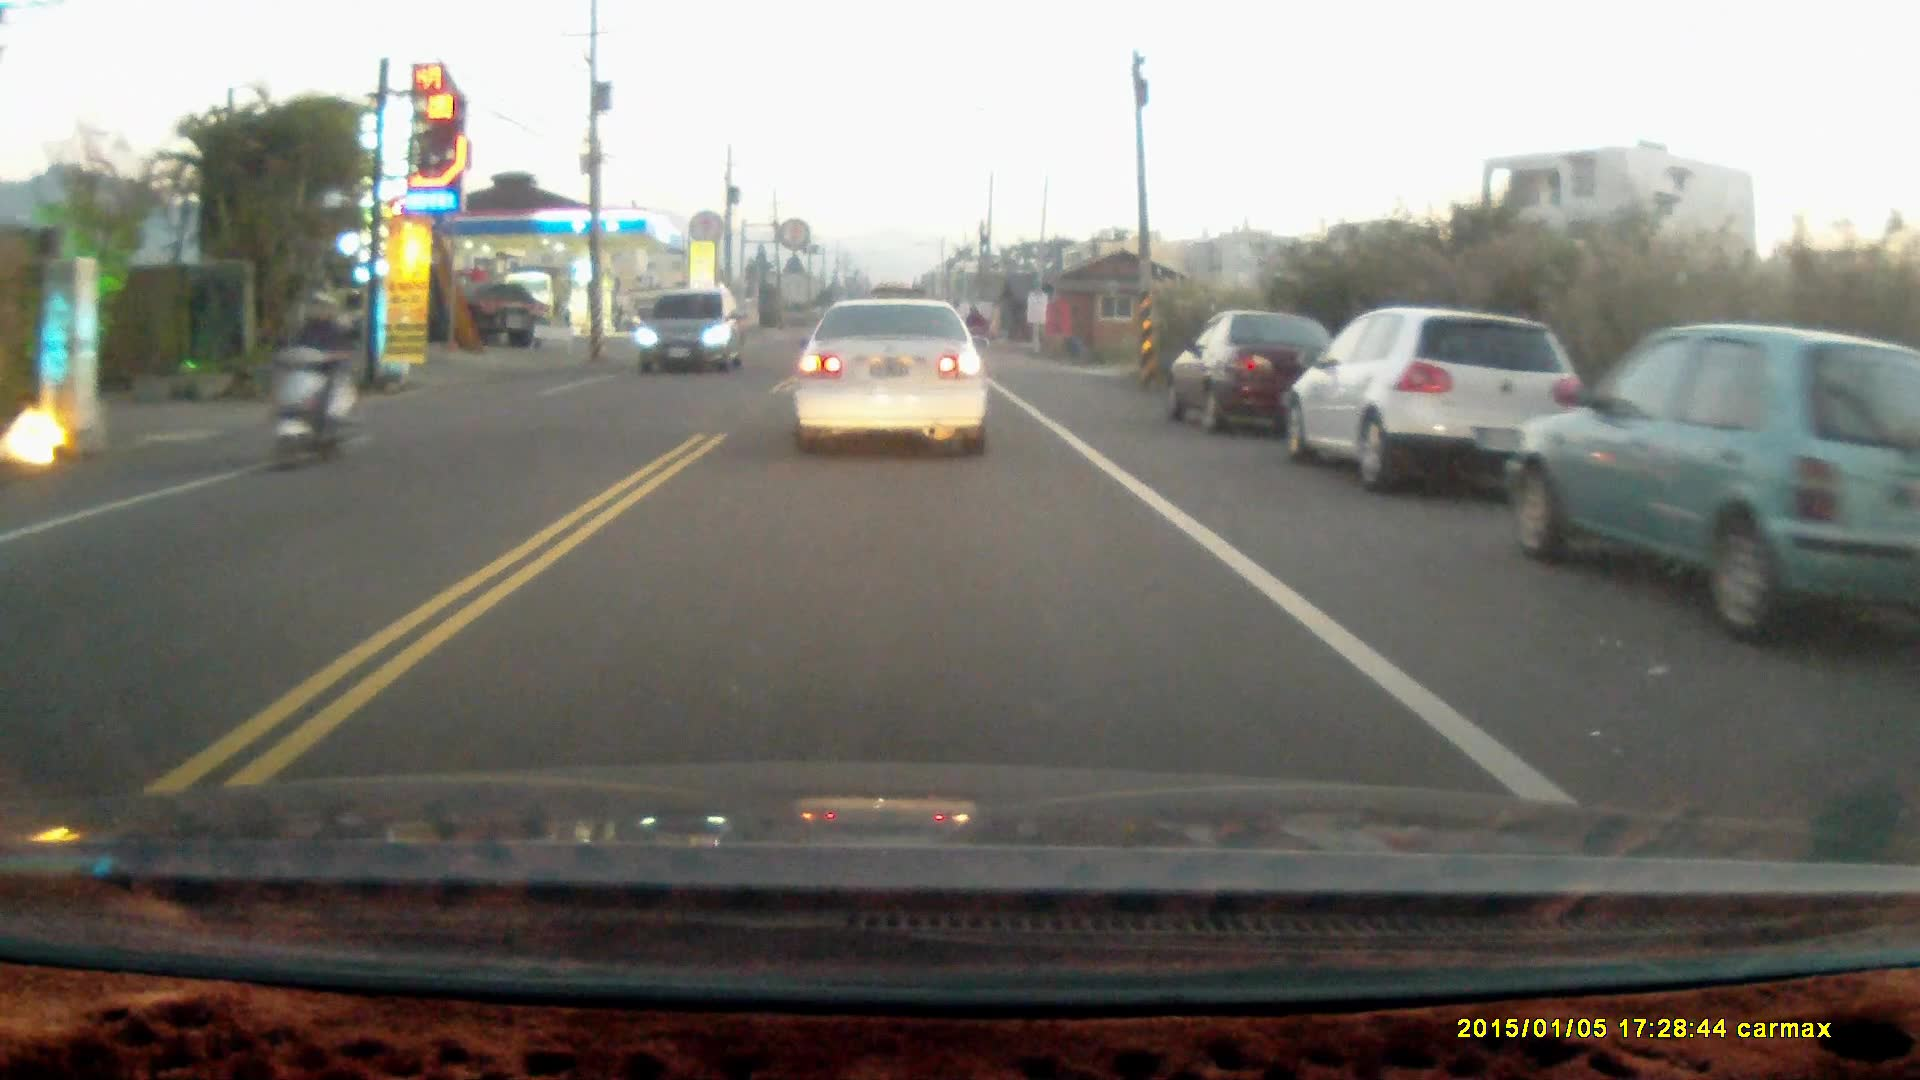rider: (265, 284, 363, 473)
vehicle: (1509, 320, 1920, 647), (1293, 297, 1588, 488), (795, 294, 996, 459), (1172, 304, 1352, 430), (637, 287, 750, 374)
